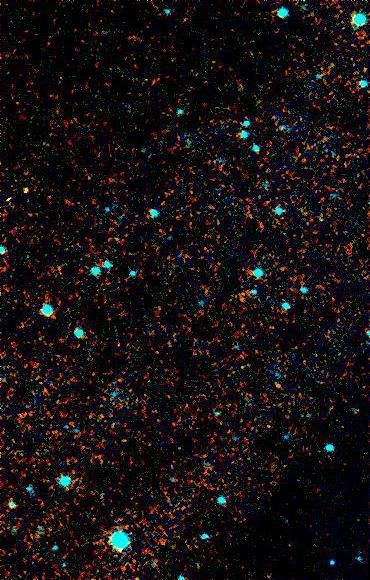star: (10, 177, 40, 207)
